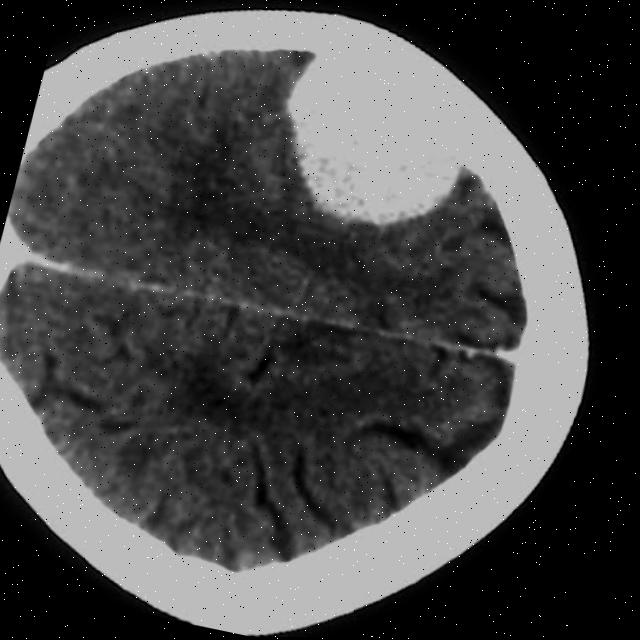Meningioma: (255, 42, 487, 246)
